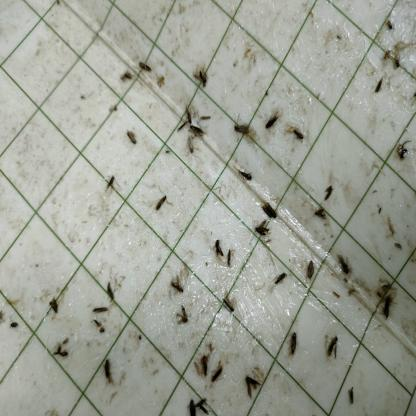prays_oleae: (334, 250, 355, 288), (252, 215, 273, 248), (241, 372, 262, 402), (174, 295, 191, 331), (259, 197, 279, 225), (380, 289, 395, 325), (394, 135, 410, 167), (194, 58, 210, 90), (291, 116, 305, 151), (53, 334, 70, 361), (197, 348, 211, 380), (234, 116, 251, 142), (210, 366, 228, 390), (288, 323, 299, 358), (262, 113, 280, 134), (221, 293, 236, 318), (138, 56, 154, 79), (151, 190, 169, 210), (328, 334, 339, 366), (372, 75, 385, 102), (210, 235, 222, 264), (309, 202, 328, 220), (42, 298, 60, 316), (190, 125, 209, 142), (169, 278, 186, 297), (239, 166, 254, 187), (105, 171, 119, 193), (118, 64, 132, 86), (104, 280, 118, 301), (194, 394, 209, 413), (182, 395, 196, 415), (101, 358, 113, 381), (125, 126, 137, 148), (276, 269, 288, 288), (307, 252, 313, 290), (92, 306, 112, 317), (322, 182, 333, 199), (226, 249, 231, 278)
